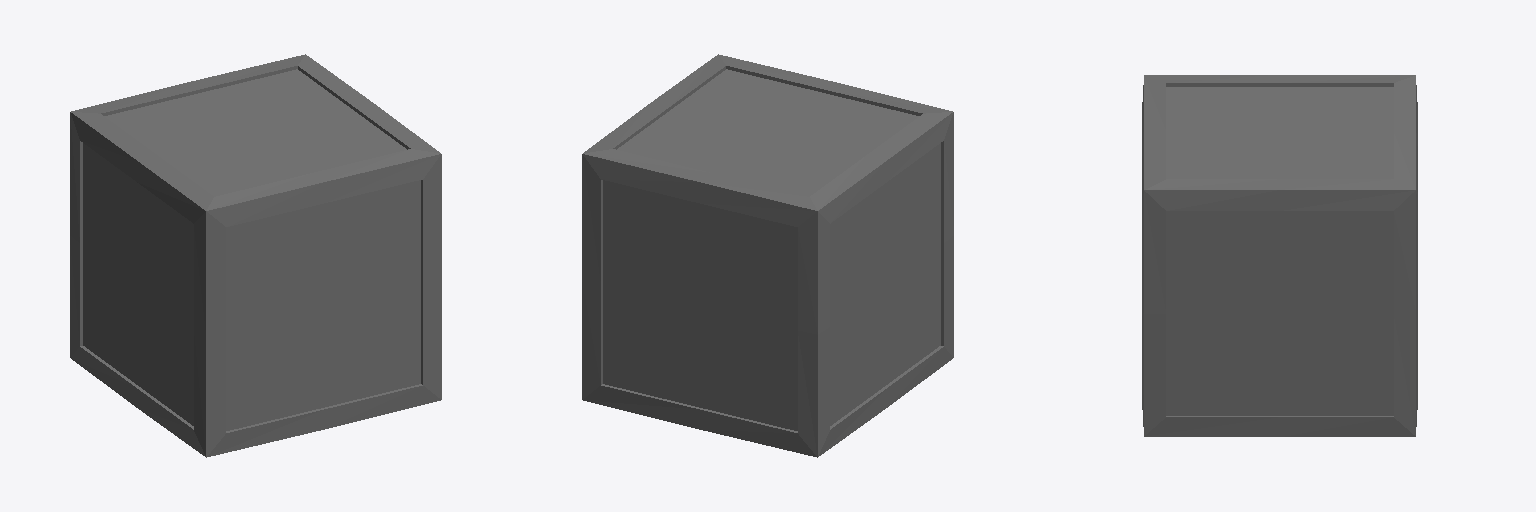
Rendered from crate_2.obj.
The picture shows the model from 3 angles: view 1: azimuth 30°, elevation 25°; view 2: azimuth 150°, elevation 25°; view 3: azimuth 270°, elevation 25°; orthographic projection.
Parts seen in each view (by area): view 1: Box; view 2: Box; view 3: Box.
Part boxes in pixels (left/top/right/bottom): Box: left=70, top=54, right=441, bottom=457; Box: left=582, top=54, right=953, bottom=457; Box: left=1142, top=75, right=1417, bottom=436.
Bounding box in the file's own units: 20.59 × 20.59 × 20.59.